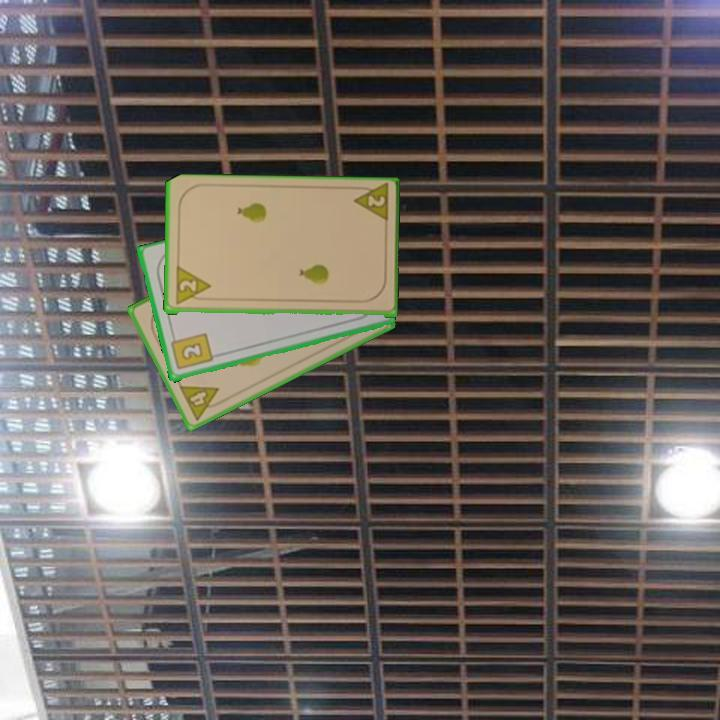2b: (167, 330, 215, 373)
2p: (349, 182, 391, 227), (172, 265, 213, 308)
4p: (175, 382, 227, 423)
